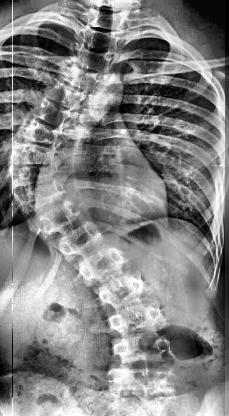Vertebrae: (110, 336, 176, 366), (106, 306, 170, 336), (14, 181, 74, 213), (94, 276, 150, 308), (32, 202, 86, 234), (75, 249, 131, 279), (32, 105, 86, 135), (56, 224, 106, 256), (14, 118, 68, 146), (42, 80, 88, 110), (6, 162, 63, 186), (7, 141, 62, 165), (58, 64, 102, 92), (76, 48, 118, 74), (82, 29, 119, 50)
